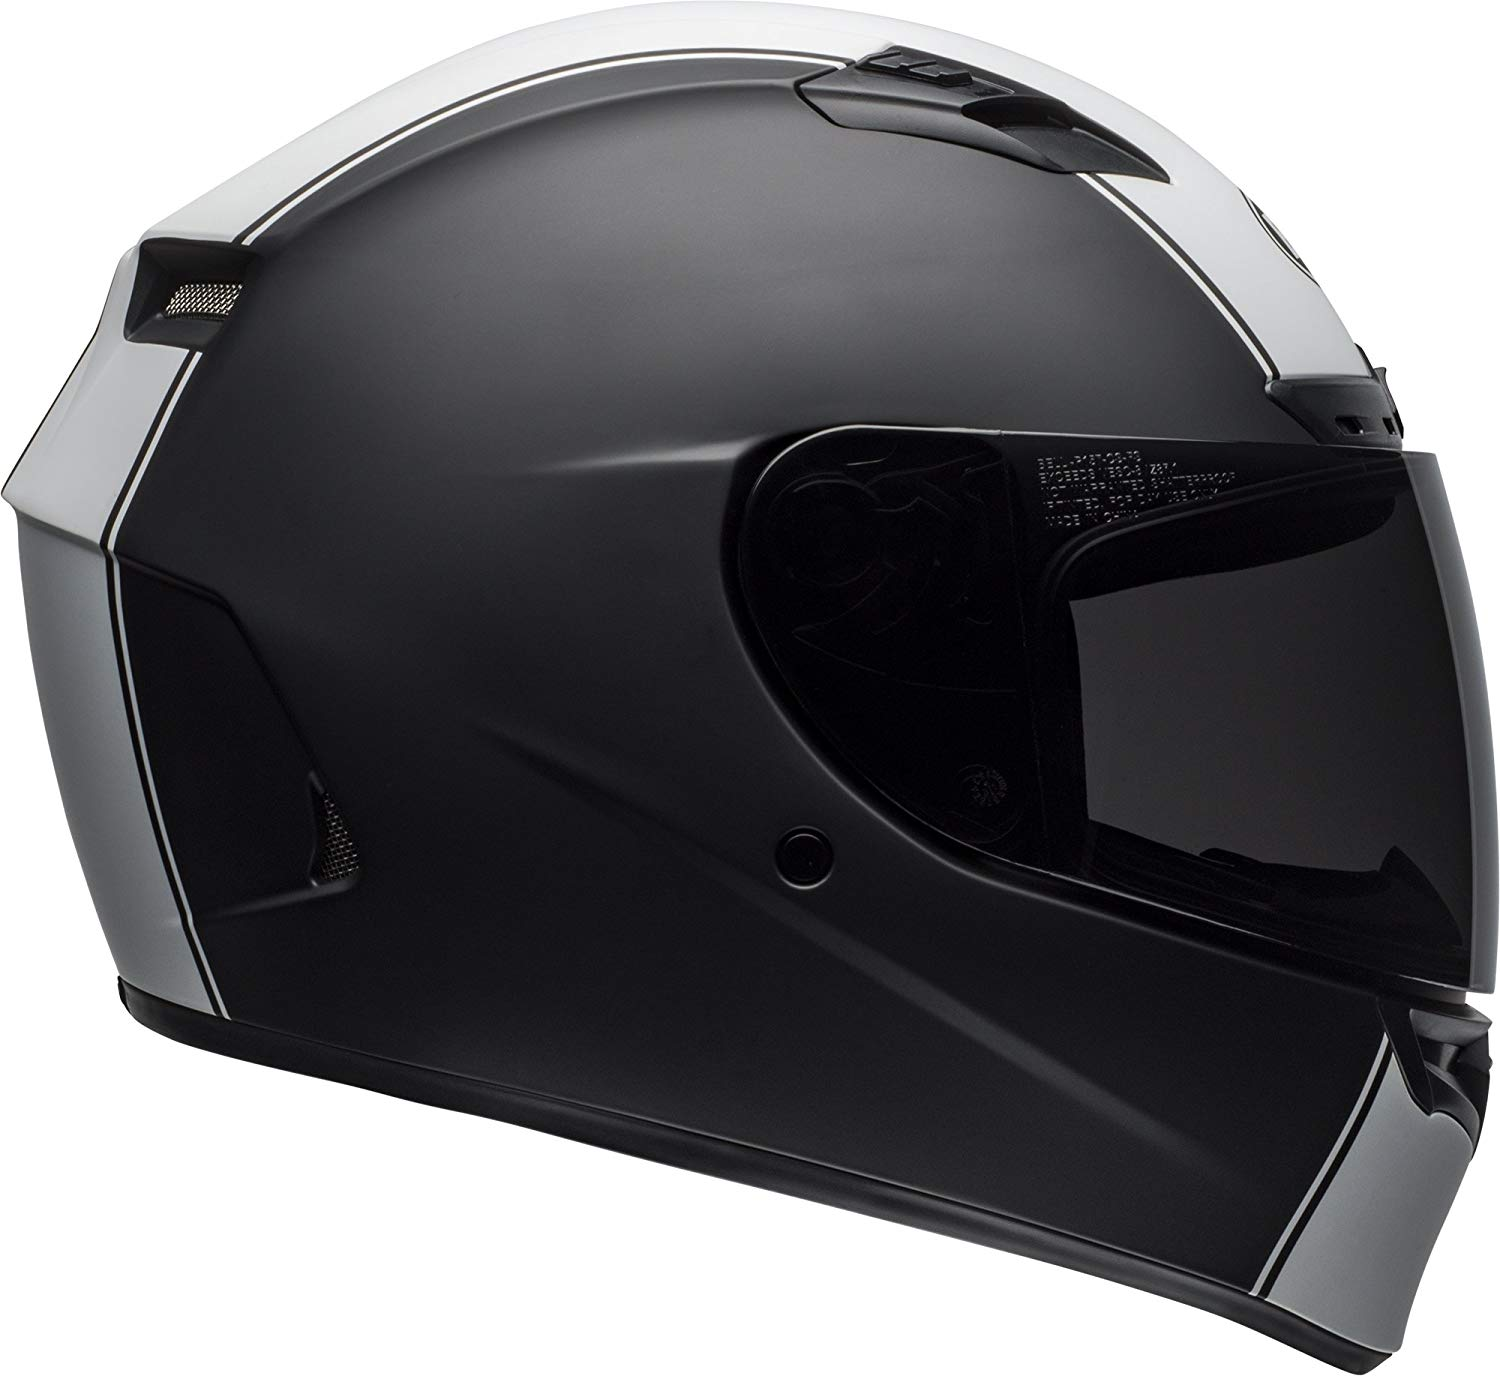with_helmet: (7, 4, 1493, 1376)
